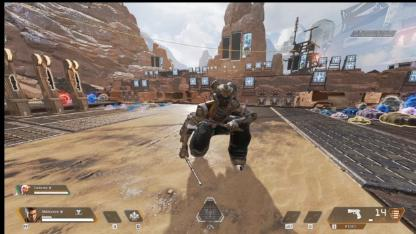Target: (192, 80, 250, 170)
